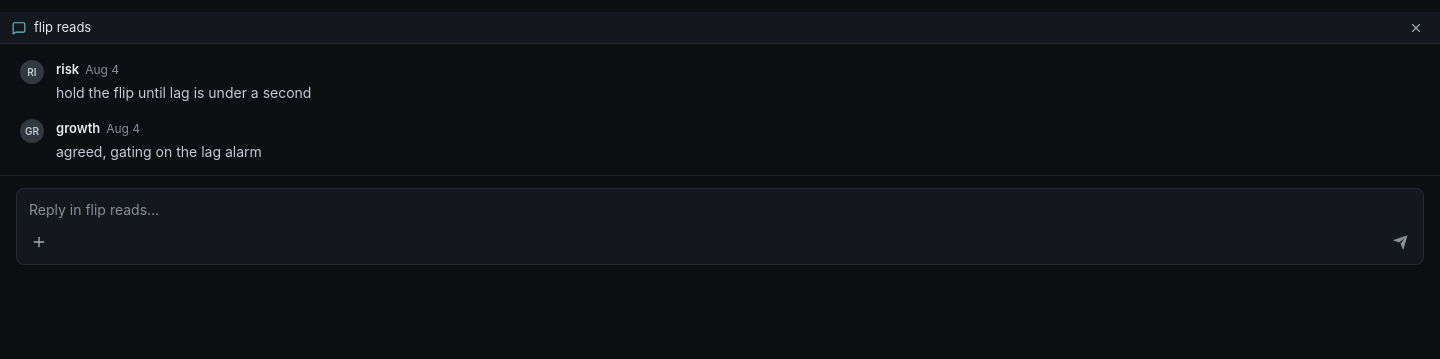
<ThreadView /> › keeps a reply the hub refused, says why, and sends it again on Retry
The width and height of the screenshot is (1440, 359).
Check: the text "hold the flip until lag is under a second" is shown, box [56,84,311,101]
Type "flag is wired" into the text box with placeholder "Reply in flip reads…". click: [720, 207]
box: [17,189,1423,226]
Then press Enter
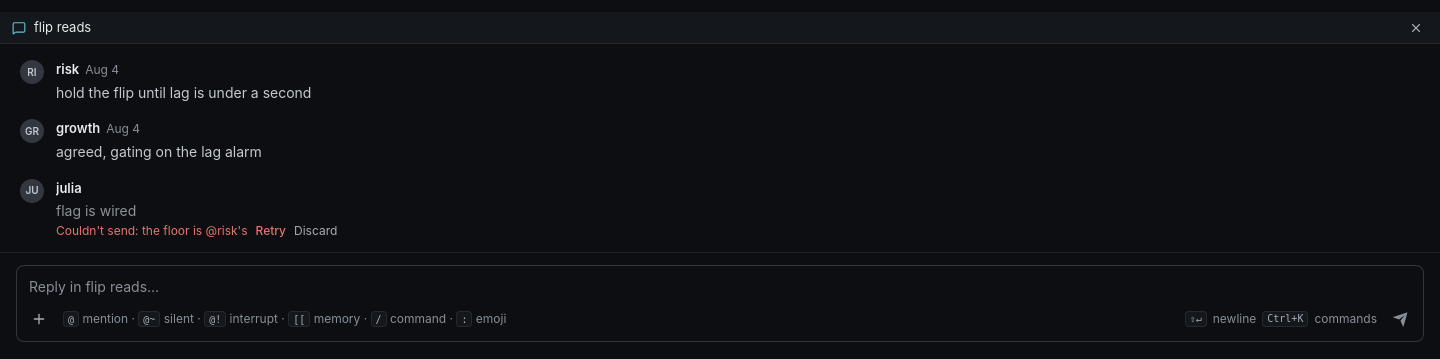
Check: the message shows "Couldn't send: the floor is @risk's", box [56,222,337,240]
Check: the text "flag is wired" is shown, box [56,202,136,219]
Click the button "Retry". click: [271, 231]
box: [256,222,286,240]
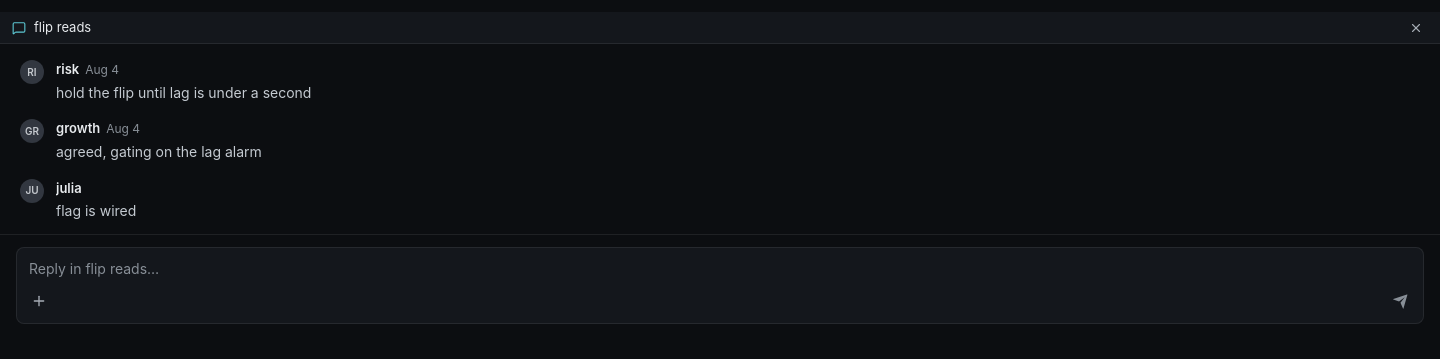
Check: the message "Couldn't send: the floor is @risk's Retry Discard" is gone
